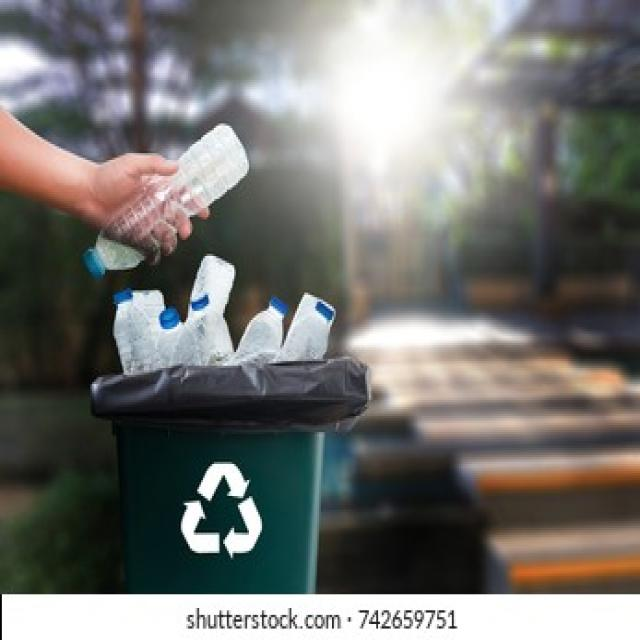plastic: (140, 281, 319, 361)
